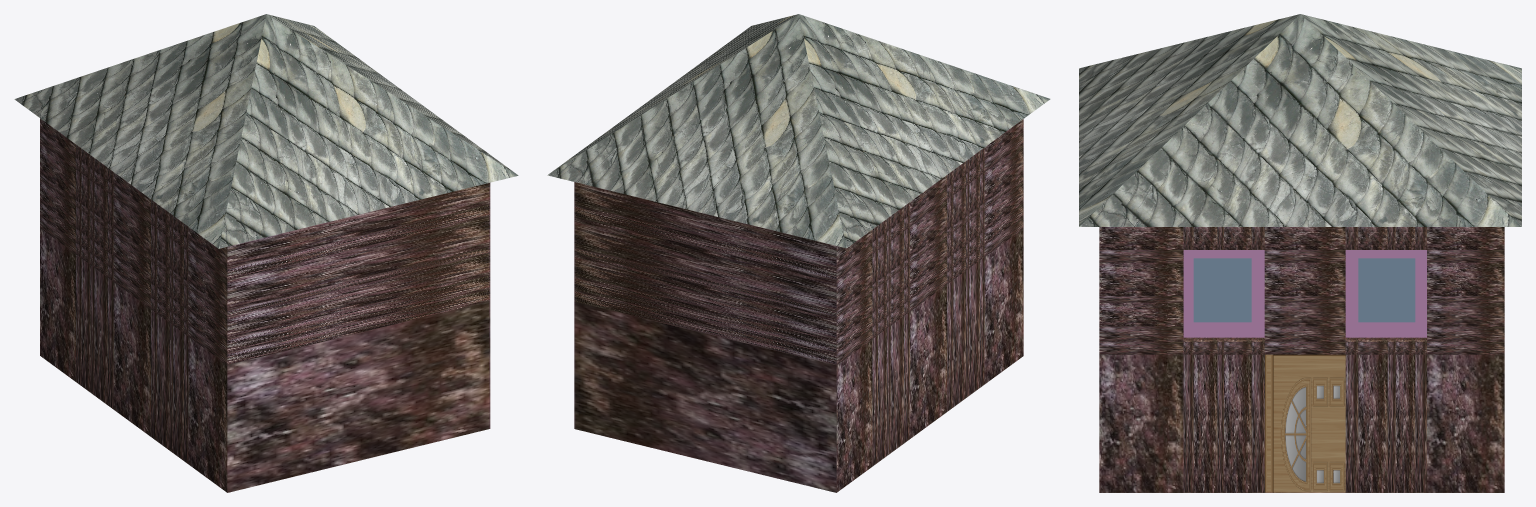
Rendered from haus6.fbx.
The picture shows the model from 3 angles, left to right: view 1: azimuth 30°, elevation 25°; view 2: azimuth 150°, elevation 25°; view 3: azimuth 270°, elevation 25°; orthographic projection. The views are drawn at different scales.
Parts seen in each view (by area): view 1: haus; view 2: haus; view 3: haus.
Boxes of the visible parts, <box> form: haus: <box>14,14,518,492</box>; haus: <box>547,14,1050,492</box>; haus: <box>1079,14,1521,492</box>.
Bounding box in the file's own units: 1174 × 994 × 1199.
